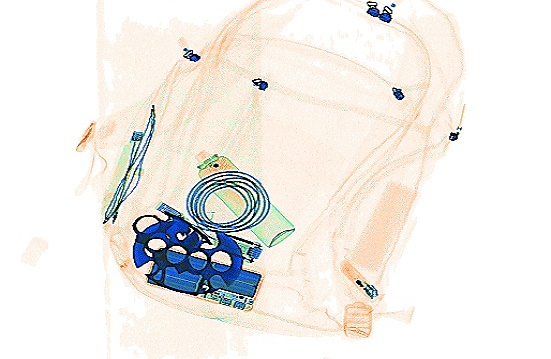lighter: (338, 254, 377, 300)
powerbank: (145, 244, 264, 310)
pressure: (191, 147, 293, 245)
